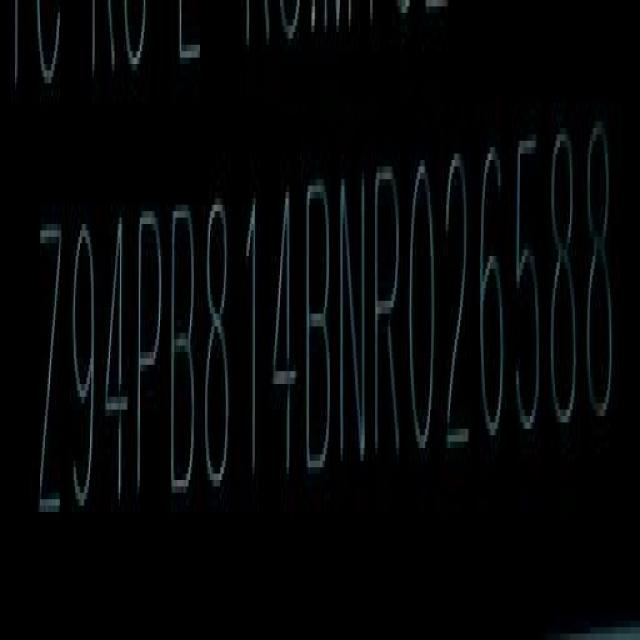0: (409, 155, 438, 458)
1: (243, 192, 260, 489)
2: (445, 152, 474, 456)
4: (103, 214, 131, 512), (273, 186, 301, 480)
5: (514, 130, 542, 440)
8: (549, 128, 580, 435), (587, 117, 615, 423), (205, 192, 232, 496)
9: (70, 217, 96, 524), (478, 145, 502, 436)
B: (170, 197, 201, 501), (307, 175, 337, 473)
N: (339, 170, 367, 469)
P: (134, 206, 163, 507)
R: (372, 166, 402, 465)
Z: (36, 216, 65, 535)
